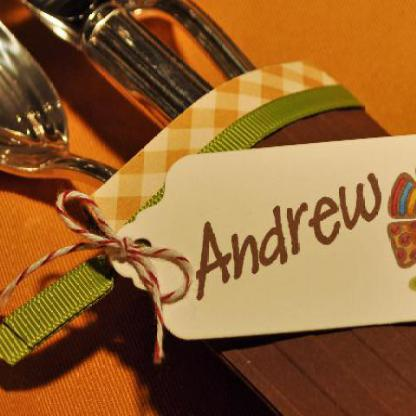knife: (0, 0, 213, 131)
